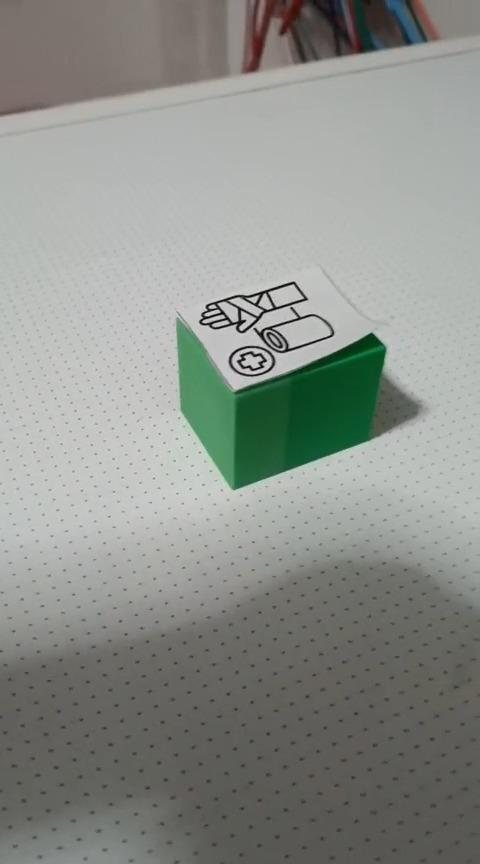Bandages: (173, 262, 387, 490)
